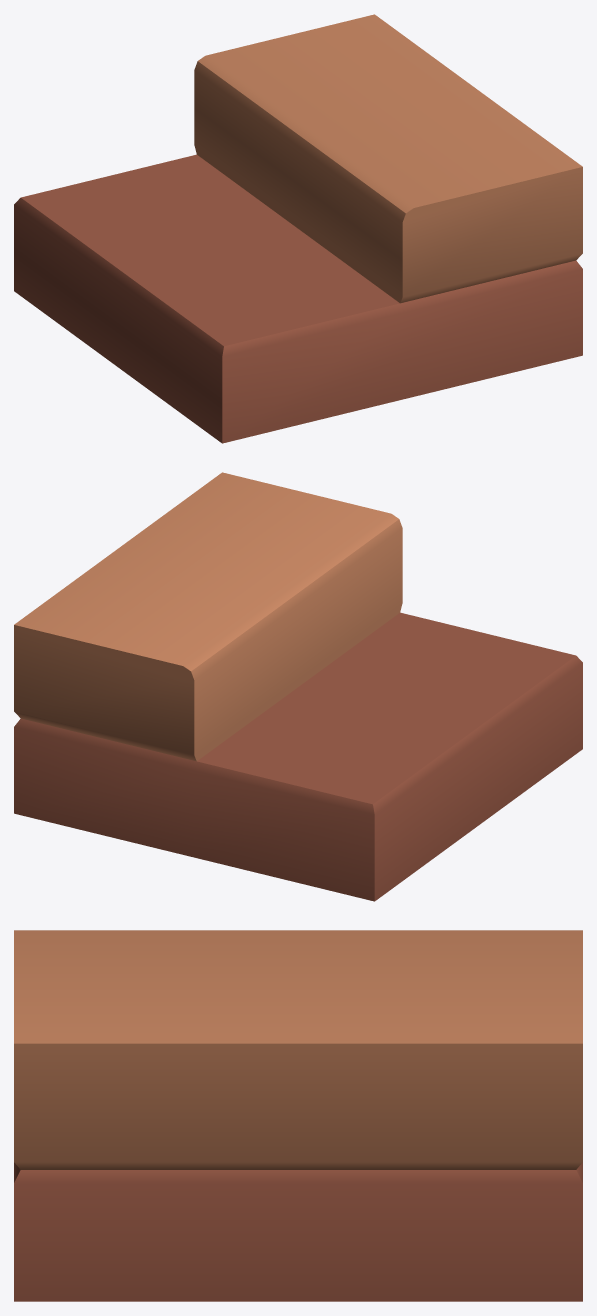
Rendered from kaykit-square-rock-waterstraight-empty.glb.
3 views of the same model, one above another, from view 1: azimuth 30°, elevation 25°; view 2: azimuth 150°, elevation 25°; view 3: azimuth 270°, elevation 25° (orthographic). The views are drawn at different scales.
Parts seen in each view (by area): view 1: square_rock_waterStraight_empty; view 2: square_rock_waterStraight_empty; view 3: square_rock_waterStraight_empty.
Boxes of the visible parts, left/top/right/bottom form: square_rock_waterStraight_empty: left=14, top=14, right=582, bottom=443; square_rock_waterStraight_empty: left=14, top=472, right=582, bottom=901; square_rock_waterStraight_empty: left=14, top=930, right=582, bottom=1301.
Bounding box in the file's own units: 2 × 1 × 2.
